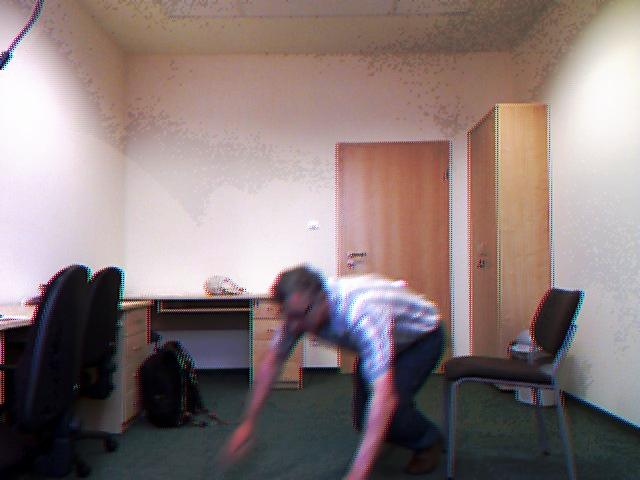fall: (223, 258, 470, 480)
